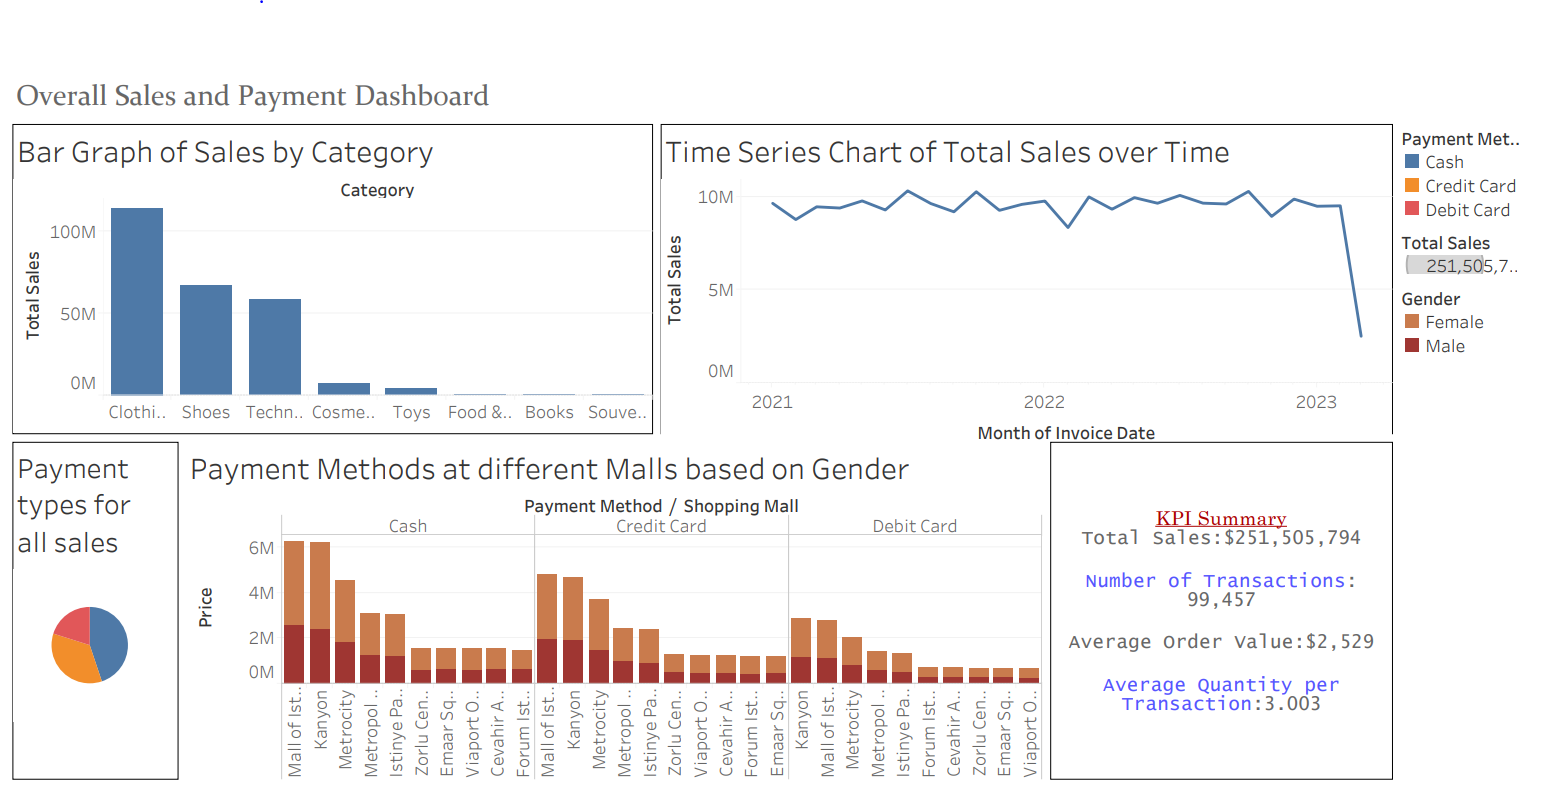

This screenshot's page, from the dashboard's own definition file:
{"tool":"tableau","page":{"name":"Dashboard 1","canvas":[1000,1000],"units":"permille","ordinal":0},"visuals":[{"type":"text","box":[5,10.5,990.1,69.3]},{"type":"worksheet","title":"Sheet 2","mark":"Automatic","rows":["Calculation_652459000120393728"],"cols":["category"],"box":[5,79.8,421.3,435.9]},{"type":"worksheet","title":"Sheet 1","mark":"Automatic","rows":["Calculation_652459000120393728"],"cols":["invoice_date"],"box":[426.3,79.8,481.2,435.9]},{"type":"legend","title":"Sheet 3","param":"[federated.0xgwh991eoihom13t4zqx0tf77dr].[none:payment_method:nk]","box":[907.5,79.8,87.5,142.7]},{"type":"legend","title":"Sheet 3","param":"[federated.0xgwh991eoihom13t4zqx0tf77dr].[sum:Calculation_652459000120393728:qk]","box":[907.5,222.5,87.5,77.2]},{"type":"legend","title":"Sheet 4","param":"[federated.0xgwh991eoihom13t4zqx0tf77dr].[none:gender:nk]","box":[907.5,299.7,87.5,110]},{"type":"worksheet","title":"Sheet 3","mark":"Pie","box":[5,515.7,113.1,473.8]},{"type":"worksheet","title":"Sheet 4","mark":"Automatic","rows":["price"],"cols":["payment_method","shopping_mall"],"box":[118.1,515.7,561.9,473.8]},{"type":"text","box":[680,515.7,227.5,473.8]}]}

Visuals, with their boxes on the dashboard's canvas, which has no fixed pixel size, in thousandths of its width and height (x1, y1, x2, y2). These are canvas units, not pixel positions in the 1544x805 screenshot, which may show the page scaled, cropped or inside an application window:
text: 5/10/995/80
"Sheet 2" worksheet: 5/80/426/516
"Sheet 1" worksheet: 426/80/908/516
"Sheet 3" legend: 908/80/995/222
"Sheet 3" legend: 908/222/995/300
"Sheet 4" legend: 908/300/995/410
"Sheet 3" worksheet (Pie marks): 5/516/118/990
"Sheet 4" worksheet: 118/516/680/990
text: 680/516/908/990
